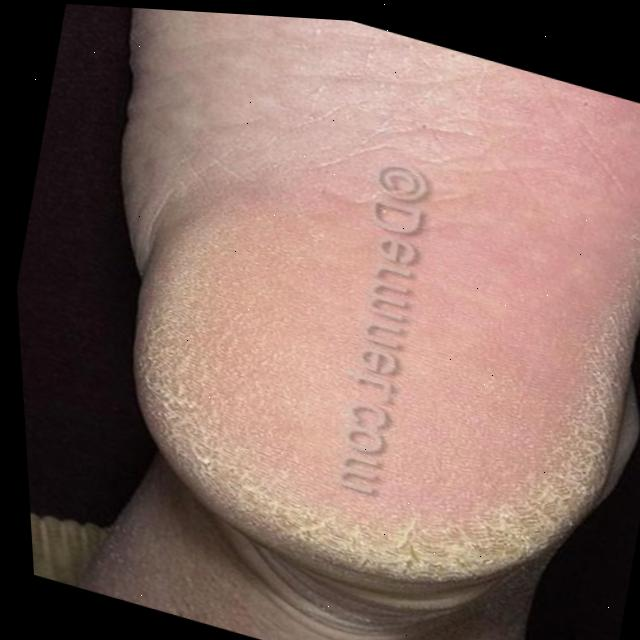Eczema: (78, 80, 640, 640)
